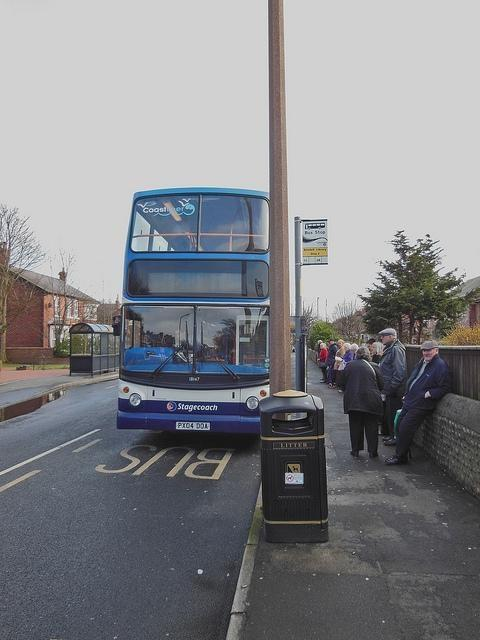bus: (111, 193, 272, 450)
